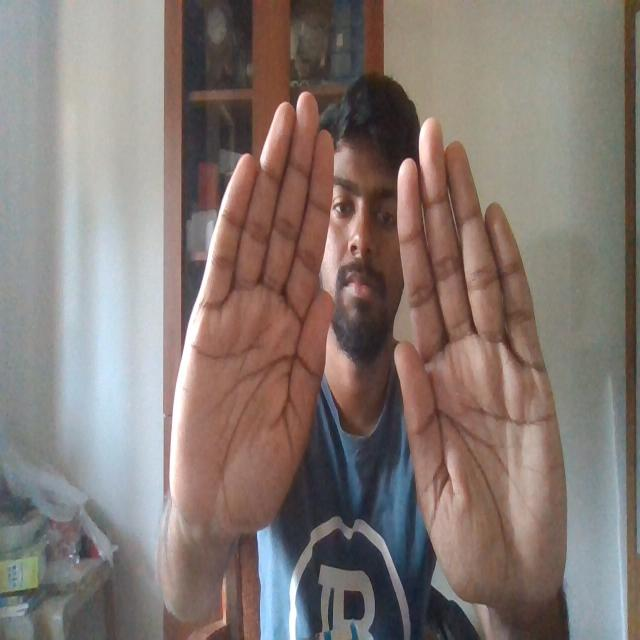ThankYou: (161, 82, 569, 611)
